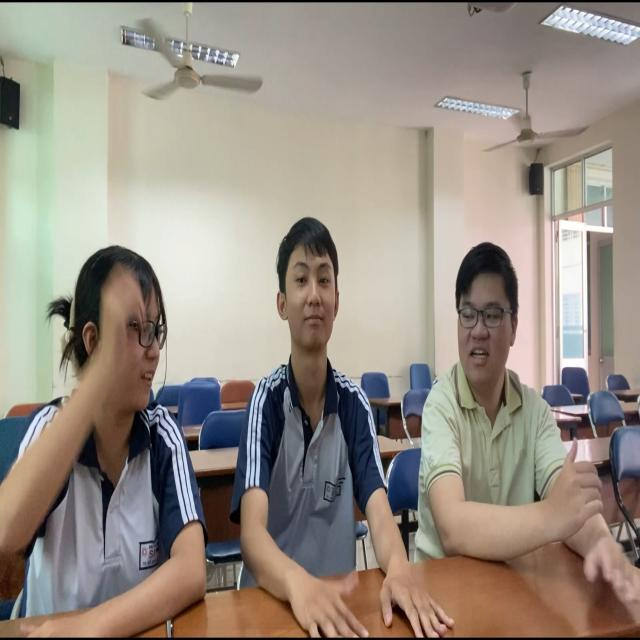raise_hand: (1, 217, 207, 640)
